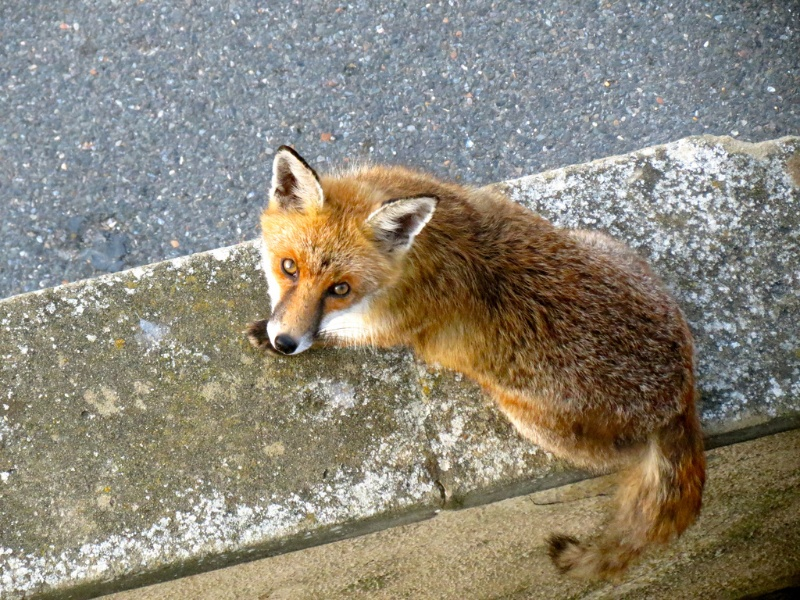fox: (243, 141, 711, 568)
